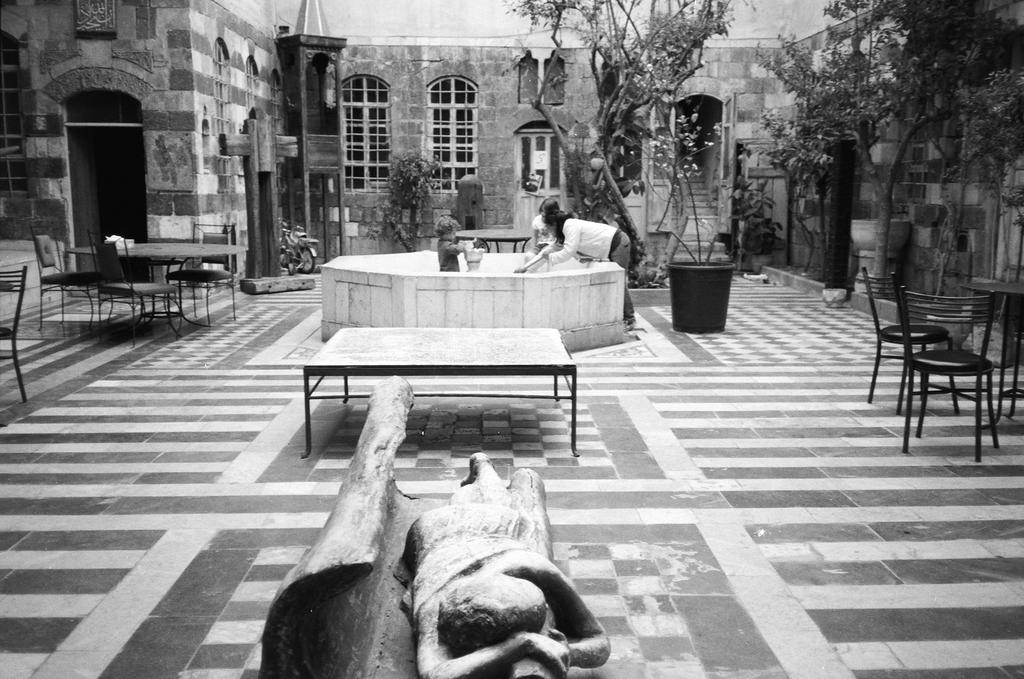Chair: (0, 264, 28, 402)
